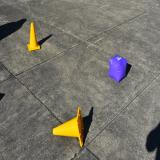cone: (53, 106, 84, 146), (27, 22, 41, 51)
cube: (108, 54, 128, 82)
